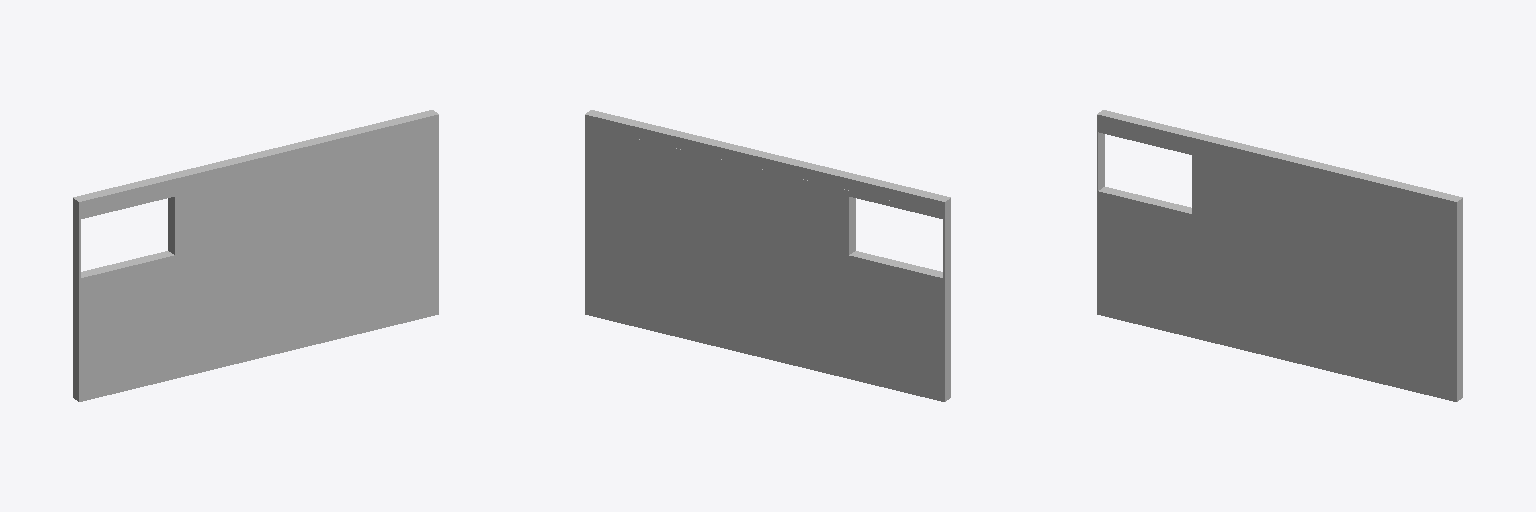
File: df4d_right_board_f.obj
The picture shows the model from 3 angles: view 1: azimuth 30°, elevation 25°; view 2: azimuth 150°, elevation 25°; view 3: azimuth 330°, elevation 25°; orthographic projection.
Visible parts, largest first — view 1: df4d_right_broad_f; view 2: df4d_right_broad_f; view 3: df4d_right_broad_f.
Boxes of the visible parts, <box> form: df4d_right_broad_f: <box>73,110,438,401</box>; df4d_right_broad_f: <box>585,110,950,401</box>; df4d_right_broad_f: <box>1097,110,1462,401</box>.
Size of the model in its own units: 4 by 2.12 by 0.1258.